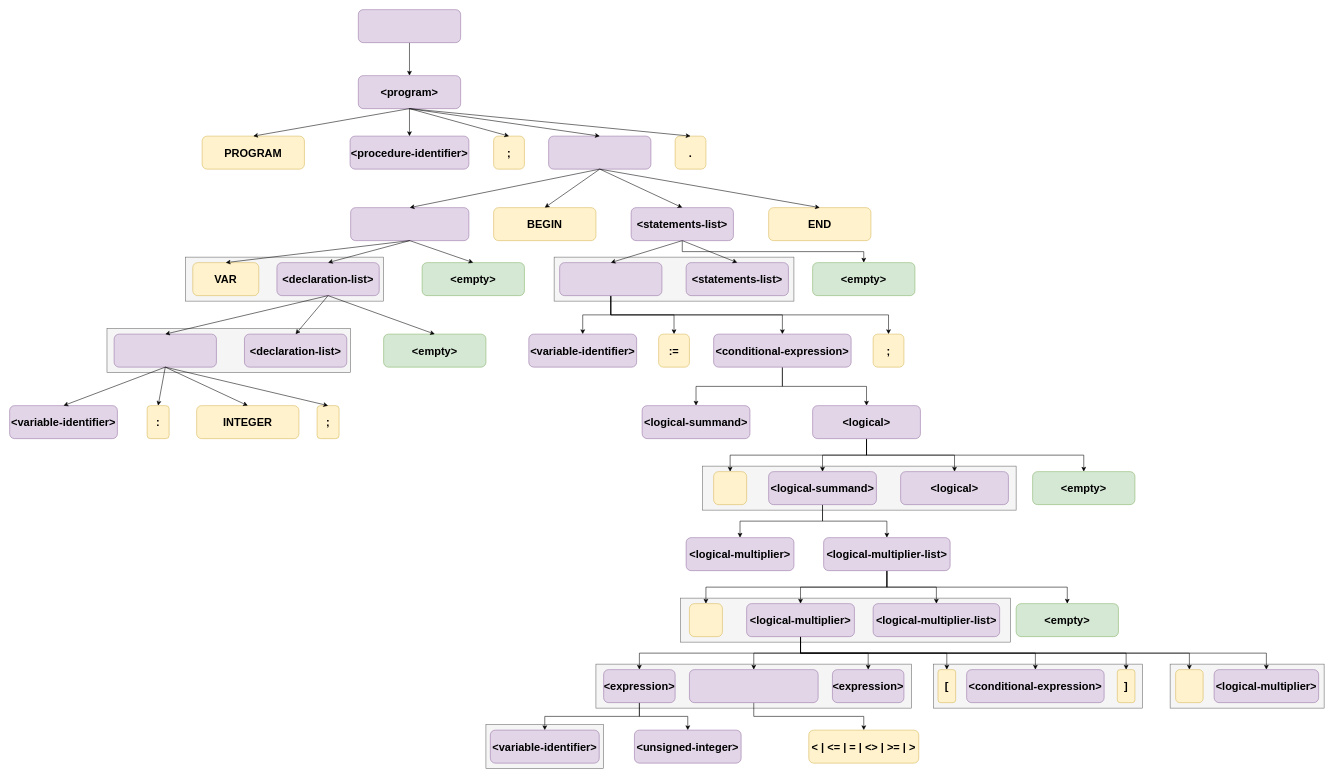
Image size: 1334x778. Some labels were removed from this diagram. Here are the shapes that lost their labels. From the top down, the centre of each, then its label:
At point 409,26: "<signal-program>".
At point 599,152: "<block>".
At point 409,224: "<variable-declaration>".
At point 610,279: "<statement>".
At point 165,350: "<declaration>".
At point 730,488: "OR".
At point 705,620: "AND".
At point 753,686: "<comparison-operator>".
At point 1189,686: "NOT".
